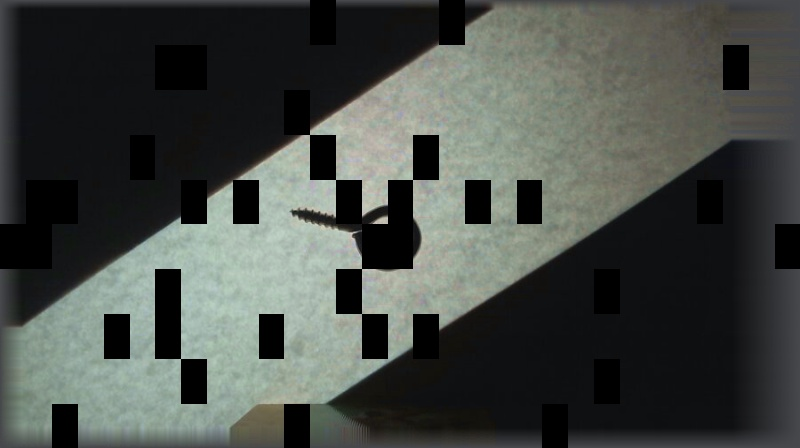O001: (286, 203, 424, 272)
